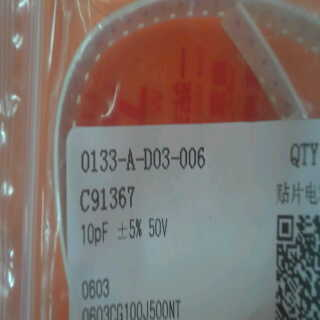10pF: (75, 218, 112, 251)
